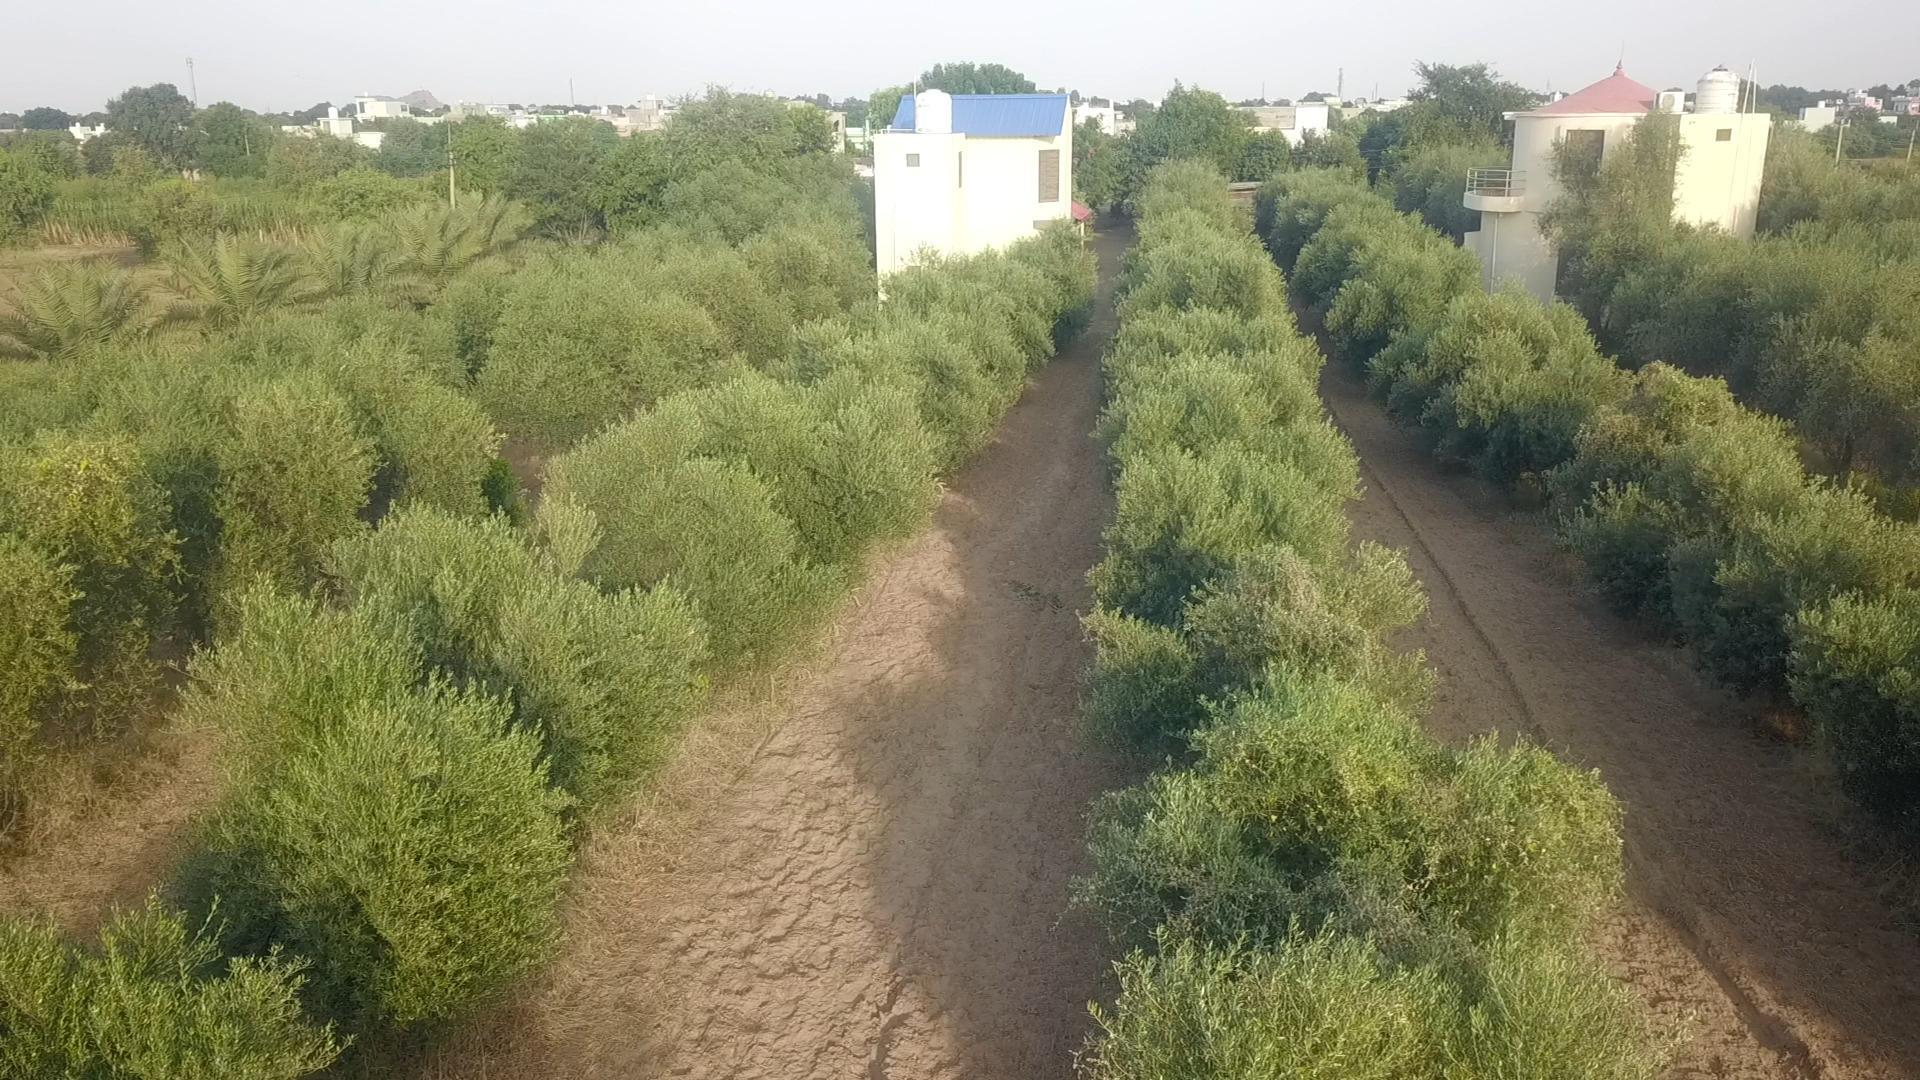canopy: (0, 231, 1095, 1079), (1085, 164, 1634, 1077), (0, 225, 873, 765), (1275, 171, 1919, 761), (1563, 227, 1919, 496), (1658, 261, 1668, 274)
road: (487, 228, 1130, 1079), (1323, 371, 1919, 1079), (0, 723, 222, 928)
